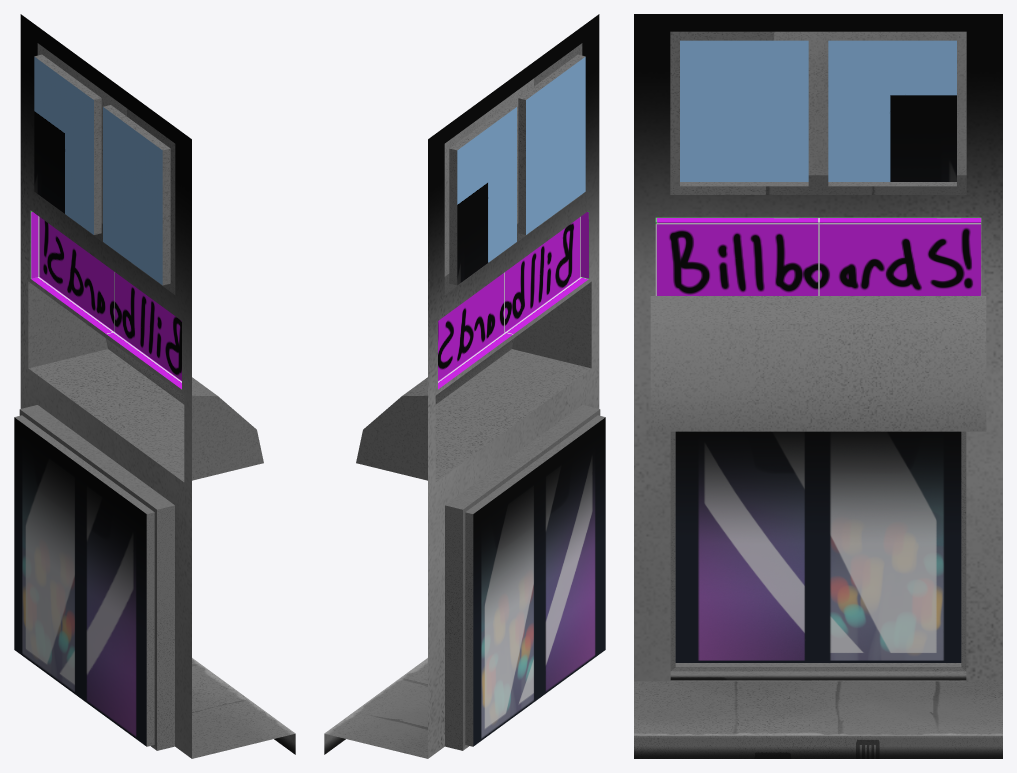
Rendered from StorefrontA.FBX.
3 renders of one model, left to right at view 1: azimuth 30°, elevation 25°; view 2: azimuth 150°, elevation 25°; view 3: azimuth 270°, elevation 25°, orthographic. The views are drawn at different scales.
Visible parts, largest first — view 1: StorefrontA; view 2: StorefrontA; view 3: StorefrontA.
Part boxes in pixels (<box>): StorefrontA: <box>14,14,295,758</box>; StorefrontA: <box>324,14,605,758</box>; StorefrontA: <box>634,14,1002,758</box>.
Bounding box in the file's own units: 0.6557 × 1.5 × 3.1.
3 materials, 3 textured.
